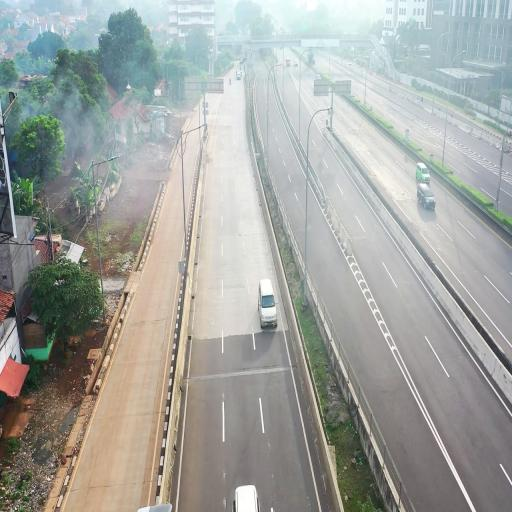vehicle: (258, 278, 278, 328)
